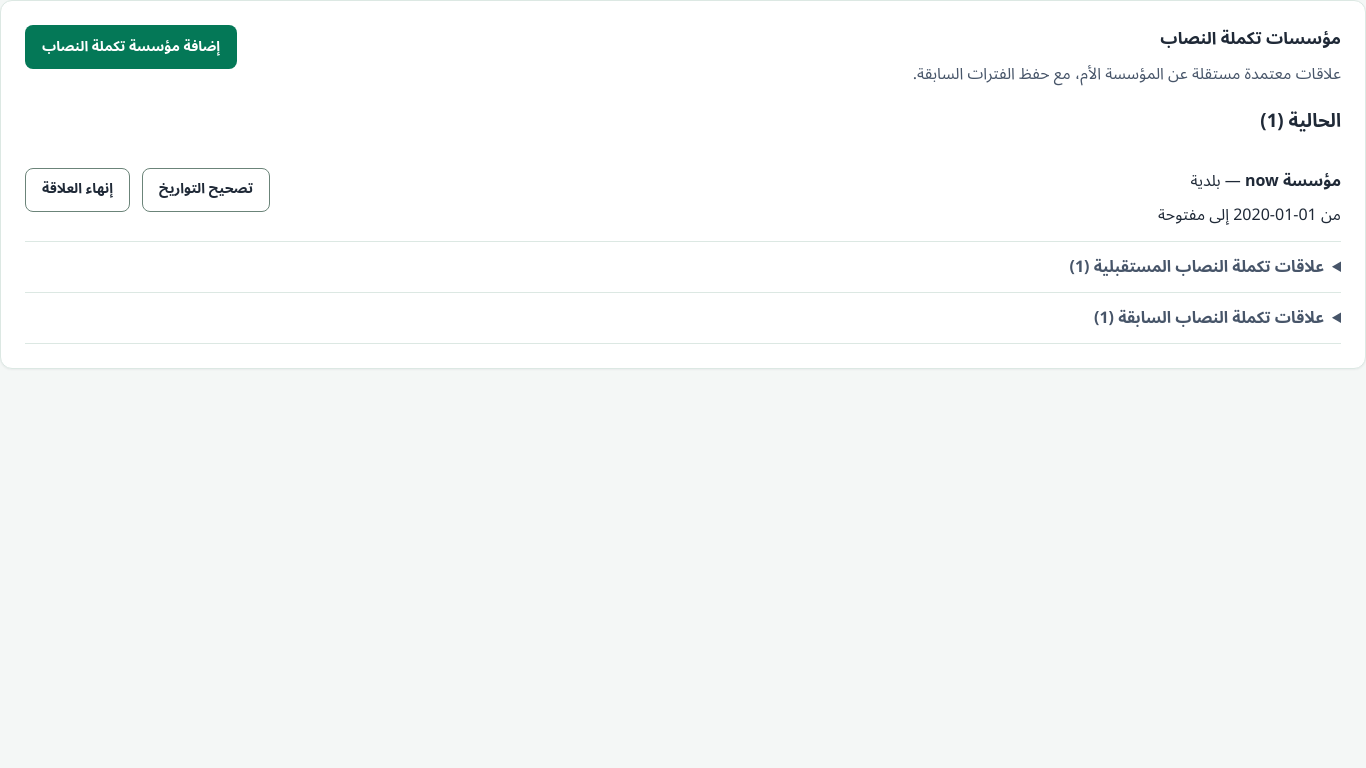
Test case: TASK-082 supplementary workplaces profile section › shows safe conflict feedback when the server rejects a mutation
The image size is (1366, 768).
Click the button "تصحيح التواريخ" at [206, 190], box 142,168 -> 270,212
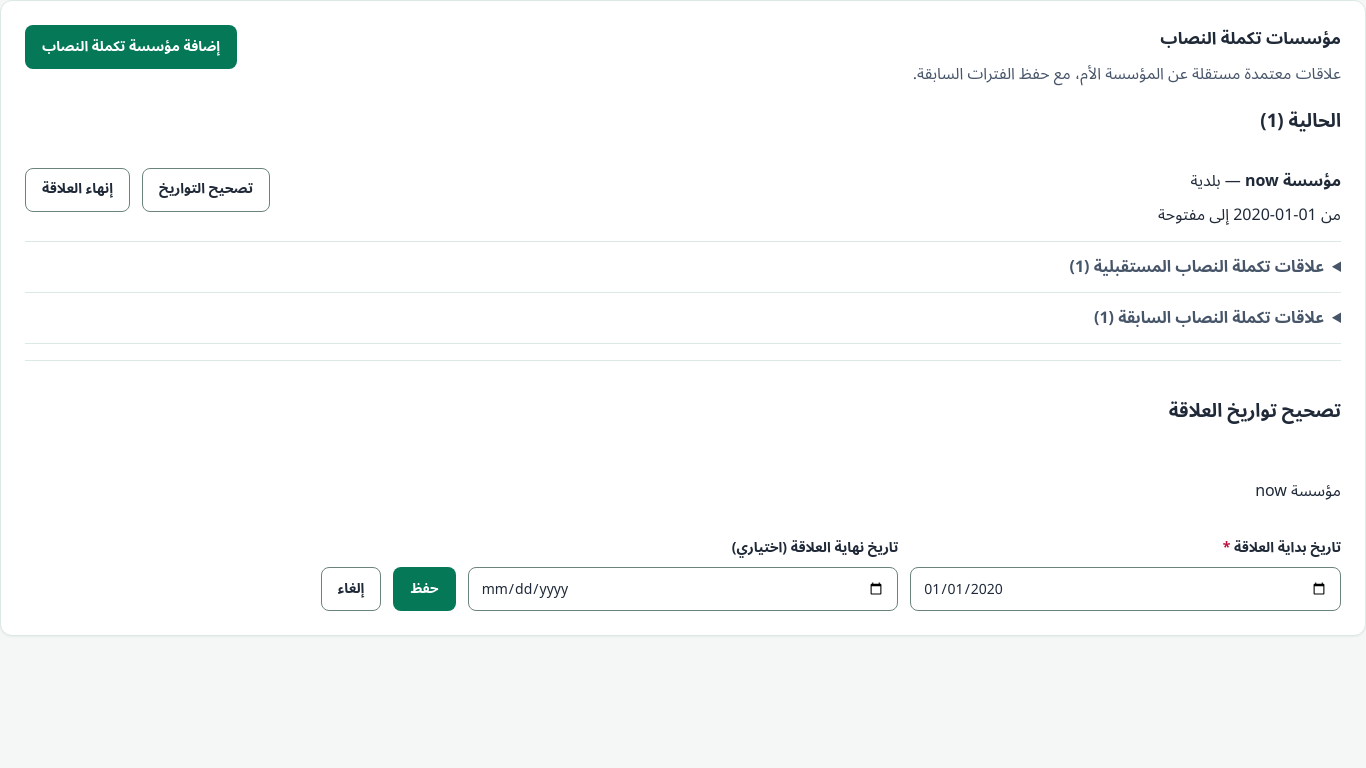
Type "2025-01-01" into the date field labelled "تاريخ نهاية العلاقة (اختياري)" at [683, 589], box 468,567 -> 898,611
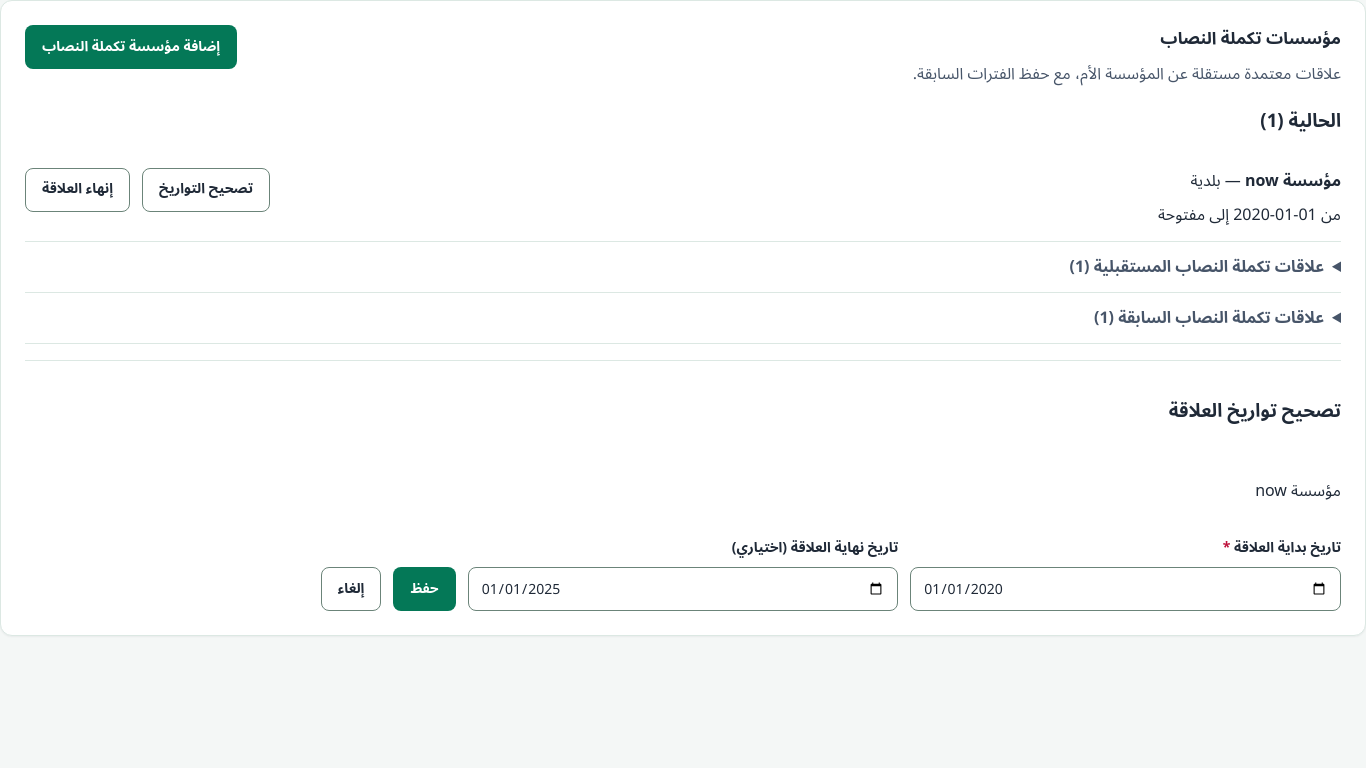
Click the button "حفظ" at [425, 589], box 393,567 -> 456,611
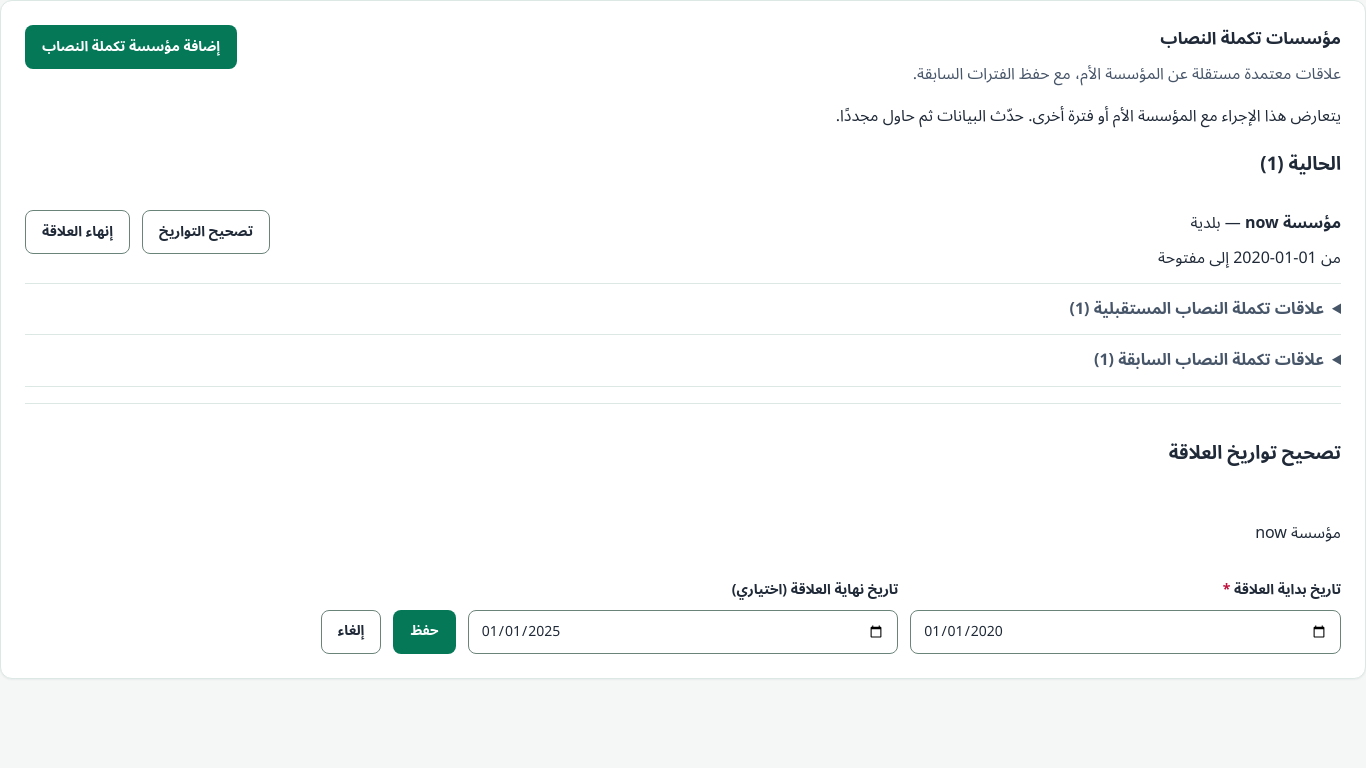
Expected: the text "يتعارض هذا الإجراء مع المؤسسة الأم أو فترة أخرى. حدّث البيانات ثم حاول مجددًا." is shown, 836,99 -> 1341,133
